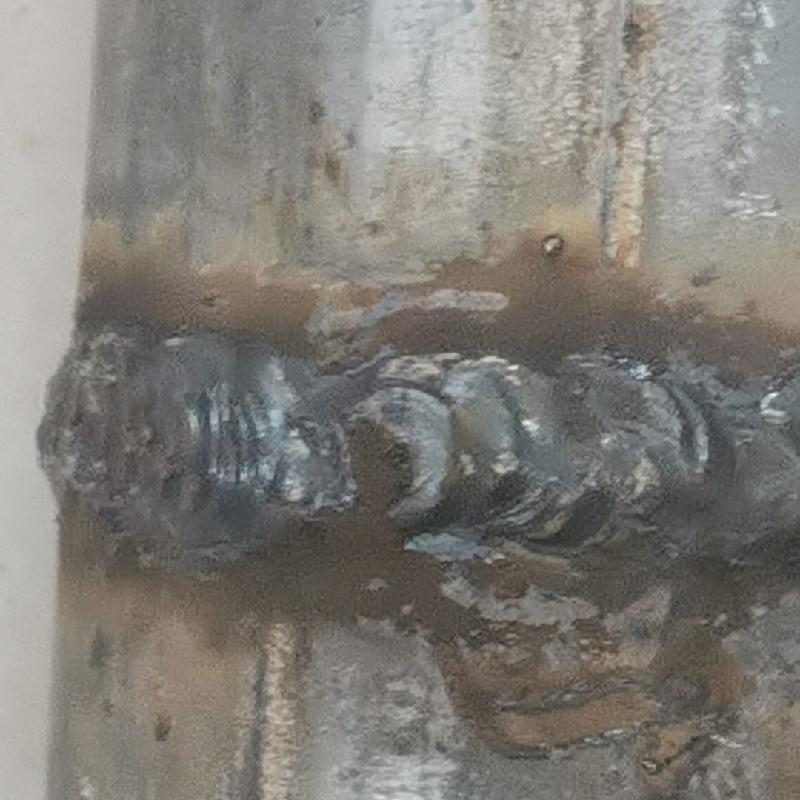good: (40, 310, 799, 563)
